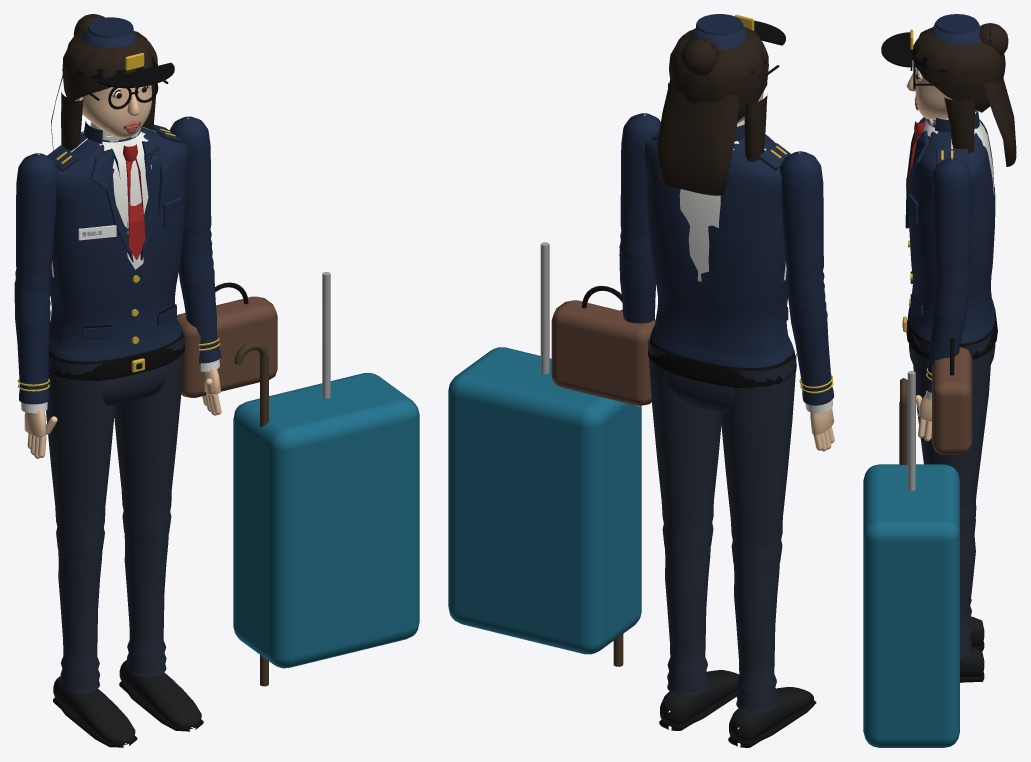
Rendered from human.glb.
3 renders of one model, left to right at view 1: azimuth 30°, elevation 25°; view 2: azimuth 150°, elevation 25°; view 3: azimuth 270°, elevation 25°, orthographic. The views are drawn at different scales.
Parts seen in each view (by area): view 1: CaseShell, TorsoParts_Uniform, LegParts_Trousers (×2), ShinParts_Trousers (×2), ArmParts_Uniform (×2), ForearmParts_Uniform (×2), BagBody, ShinParts_Shoes (×2), HairLongTop, TorsoParts_Shirt, HeadParts_Skin, BodyParts_Black (+8 smaller); view 2: CaseShell, TorsoParts_Uniform, LegParts_Trousers (×2), ShinParts_Trousers (×2), ArmParts_Uniform (×2), BagBody, HairBack, ForearmParts_Uniform (×2), HairLongTop, ShinParts_Shoes (×2), BodyParts_Black, TorsoParts_Shirt (+7 smaller); view 3: CaseShell, TorsoParts_Uniform, ArmParts_Uniform, LegParts_Trousers, HairLongTop, BagBody, ForearmParts_Uniform, ShinParts_Trousers, HairBack, HairSide, HeadParts_Skin, CaseHandle (+10 smaller).
Boxes of the visible parts, <box> form: CaseShell: <box>233,373,419,668</box>; TorsoParts_Uniform: <box>47,121,188,361</box>; LegParts_Trousers (×2): <box>46,333,184,557</box>; ShinParts_Trousers (×2): <box>58,534,168,692</box>; ArmParts_Uniform (×2): <box>14,116,212,300</box>; ForearmParts_Uniform (×2): <box>14,247,220,404</box>; BagBody: <box>176,296,277,397</box>; ShinParts_Shoes (×2): <box>53,660,201,745</box>; HairLongTop: <box>62,31,157,100</box>; TorsoParts_Shirt: <box>51,122,156,277</box>; HeadParts_Skin: <box>75,85,151,138</box>; BodyParts_Black: <box>48,331,184,380</box>; CaseShell: <box>448,347,641,654</box>; TorsoParts_Uniform: <box>644,124,793,367</box>; LegParts_Trousers (×2): <box>648,338,796,572</box>; ShinParts_Trousers (×2): <box>665,547,779,712</box>; ArmParts_Uniform (×2): <box>619,113,824,304</box>; BagBody: <box>551,300,655,405</box>; HairBack: <box>657,78,738,195</box>; ForearmParts_Uniform (×2): <box>619,245,833,405</box>; HairLongTop: <box>669,26,768,121</box>; ShinParts_Shoes (×2): <box>660,670,813,743</box>; BodyParts_Black: <box>648,336,796,387</box>; TorsoParts_Shirt: <box>679,119,786,281</box>; CaseShell: <box>863,464,959,747</box>; TorsoParts_Uniform: <box>905,111,995,343</box>; ArmParts_Uniform: <box>932,158,972,298</box>; LegParts_Trousers: <box>912,332,992,529</box>; HairLongTop: <box>912,27,1005,112</box>; BagBody: <box>932,347,972,454</box>; ForearmParts_Uniform: <box>925,283,970,392</box>; ShinParts_Trousers: <box>960,523,975,657</box>; HairBack: <box>984,78,1016,166</box>; HairSide: <box>944,97,976,152</box>; HeadParts_Skin: <box>906,68,977,119</box>; CaseHandle: <box>907,371,915,490</box>.
Bounding box in the file's own units: 0.9893 × 1.76 × 0.38.
Materials: 20 (1 with a texture image).
